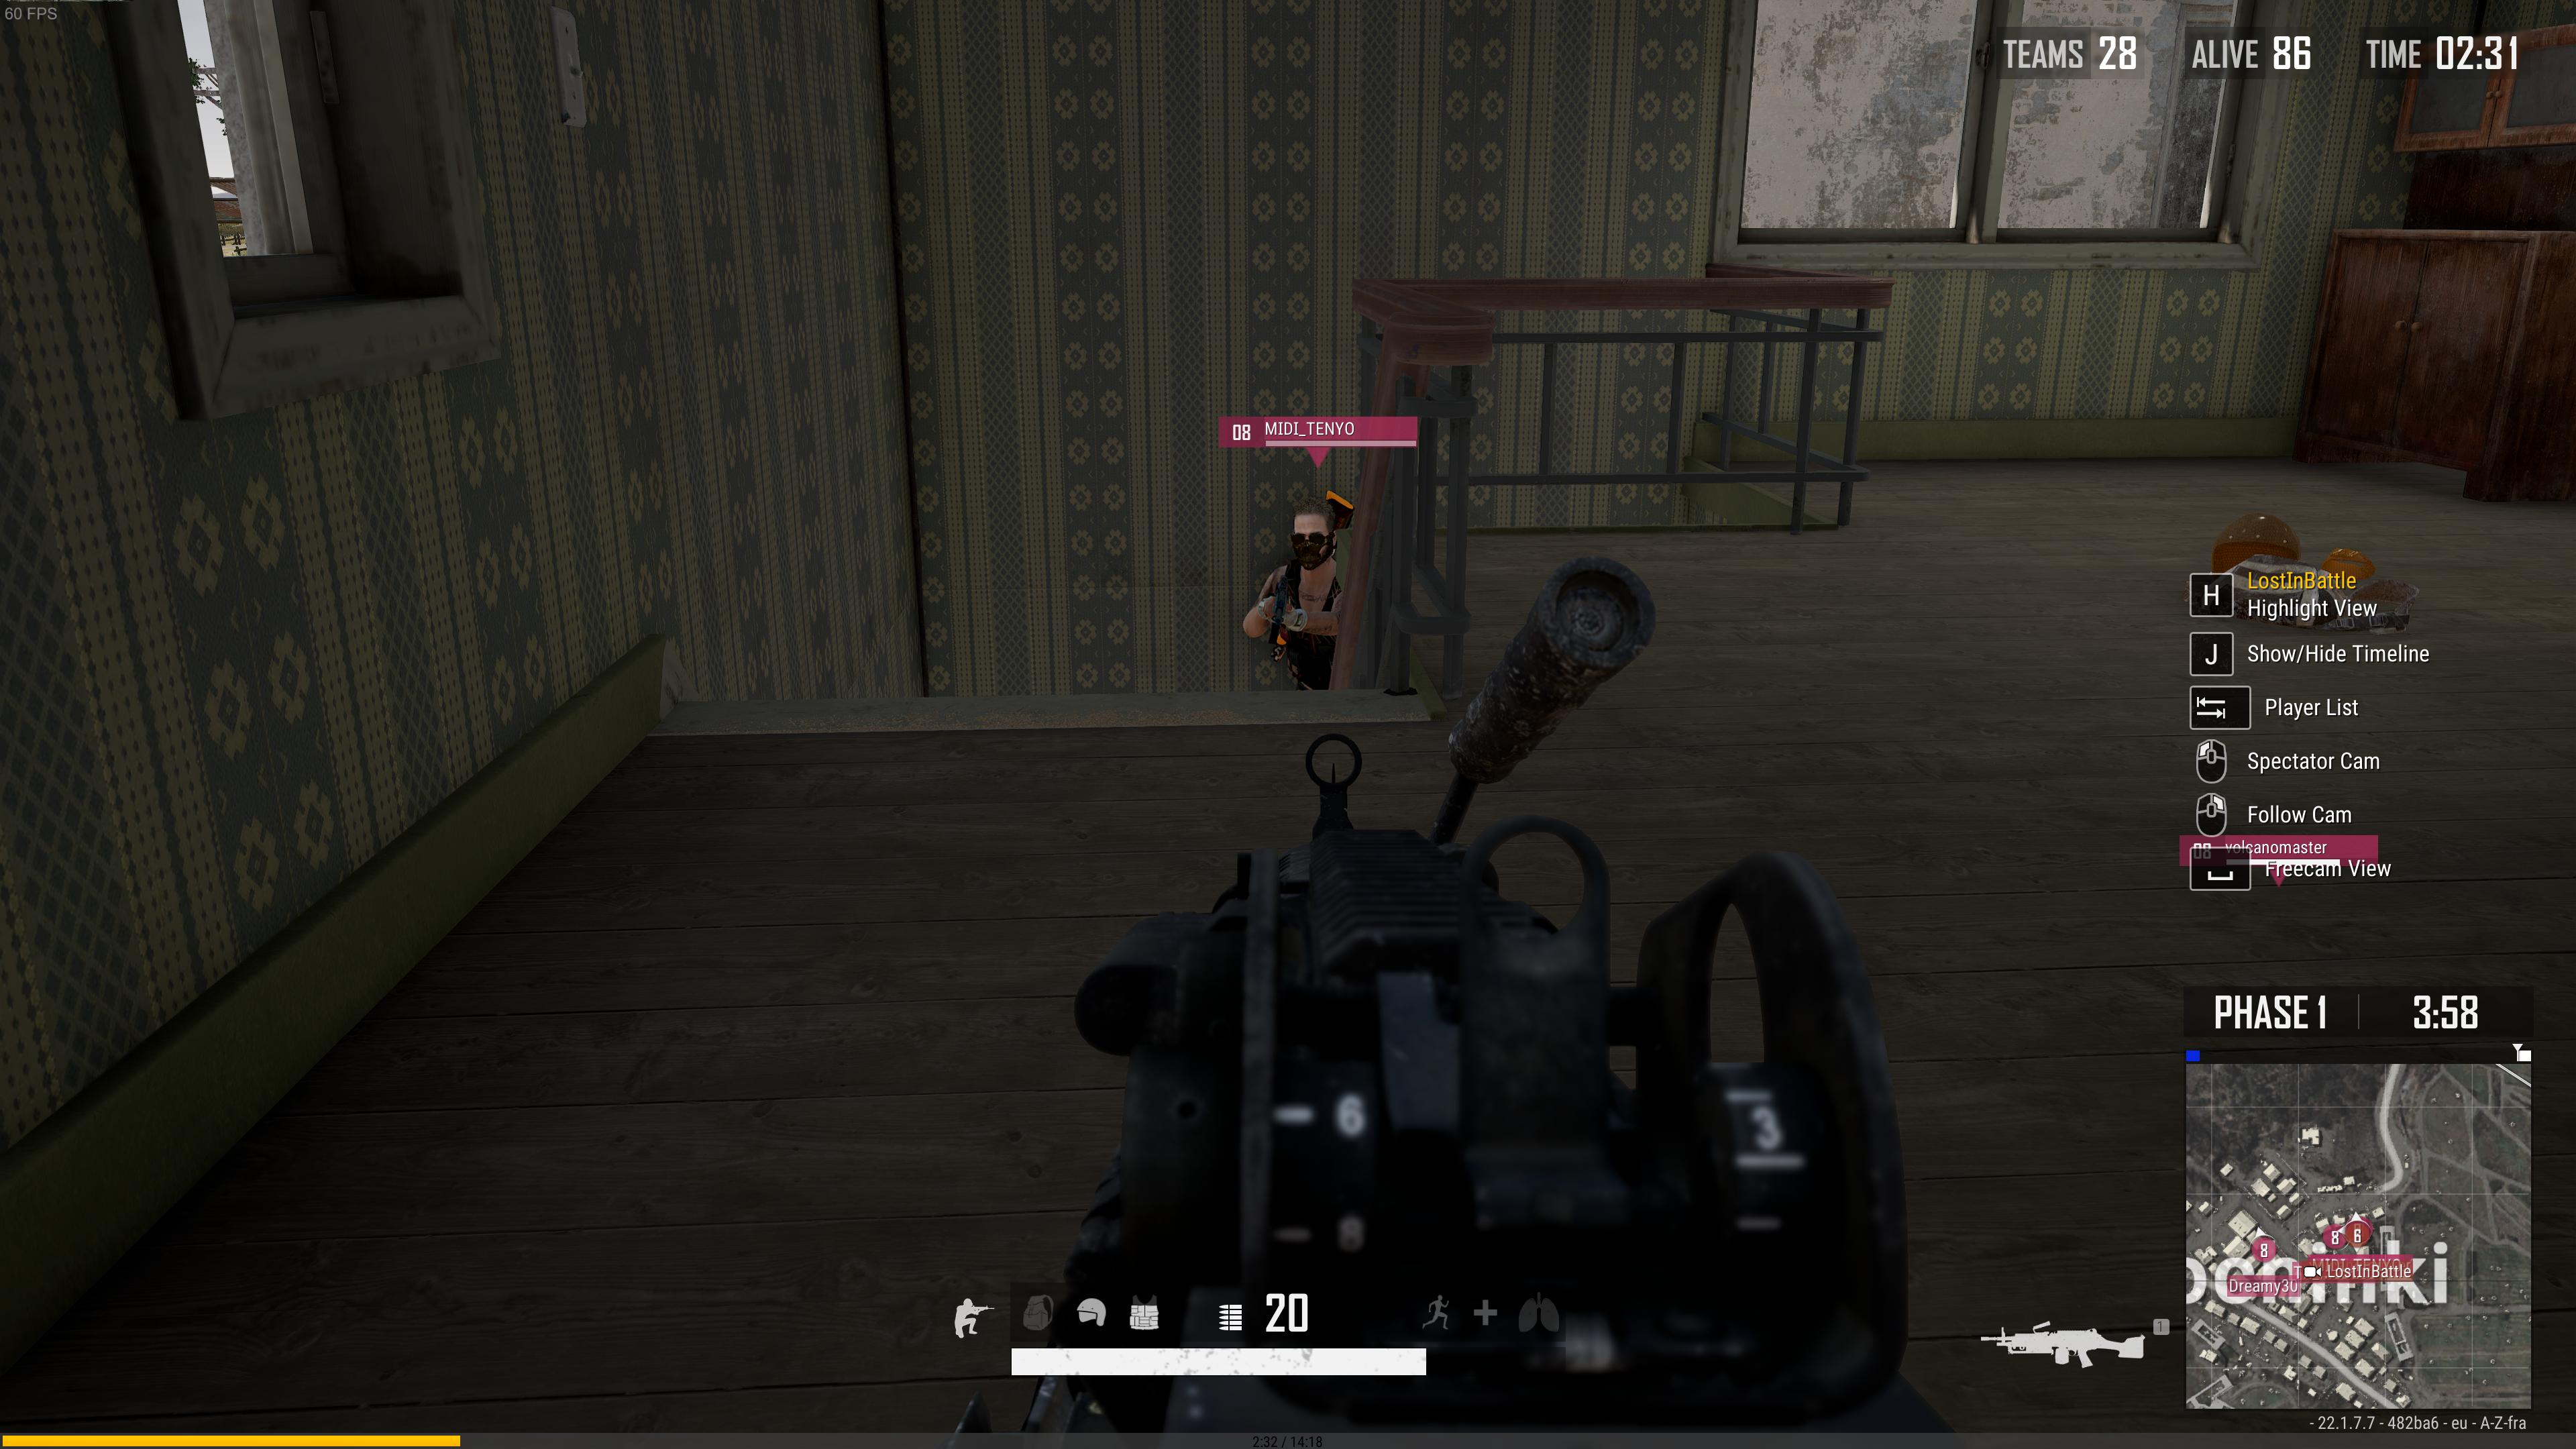enemy: (1240, 492, 1350, 688)
enemy_head: (1290, 499, 1336, 570)
